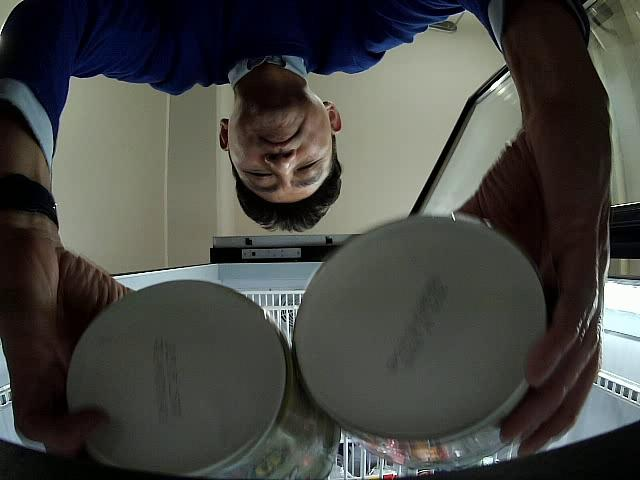00_hand: (454, 93, 611, 457), (0, 223, 139, 455)
03_chapagetti_L: (294, 214, 548, 466), (64, 279, 340, 479)
